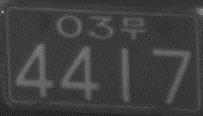0: (55, 14, 82, 38)
1: (110, 46, 142, 102)
3: (87, 14, 114, 39)
4: (59, 44, 99, 101), (15, 42, 54, 98)
7: (150, 48, 192, 105)
무: (120, 16, 148, 40)
